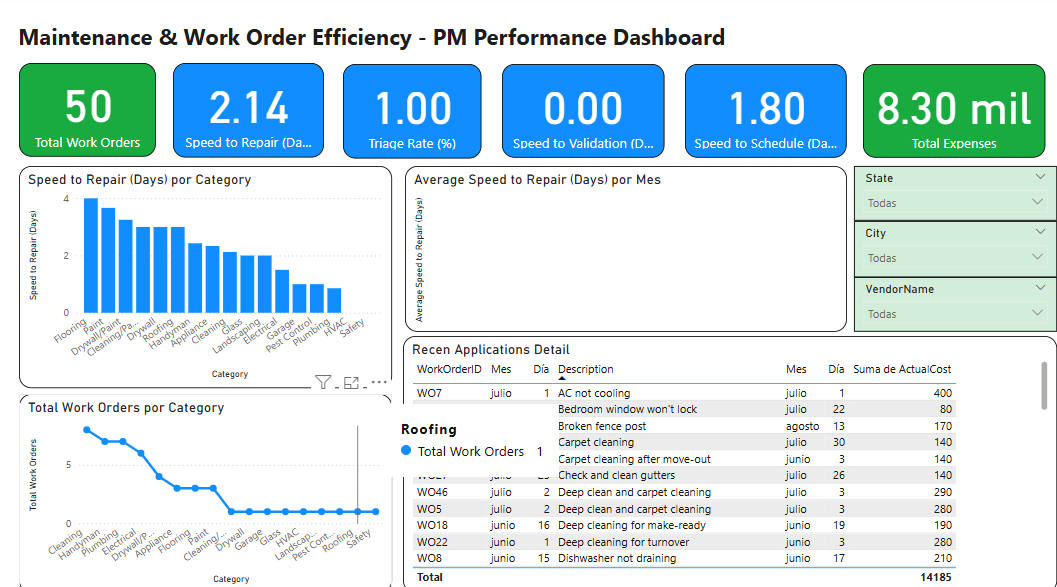

Layout of this report page (visuals, bound fields, positions):
{"tool":"powerbi","page":{"name":"Maintenance & Work Order Efficiency","canvas":[1280,720],"ordinal":2},"visuals":[{"type":"clusteredColumnChart","fields":{"Y":["WorkOrders.Speed to Repair (Days)"],"Category":["WorkOrders.Category"]},"box":[28,205,450,268],"z":0},{"type":"lineChart","fields":{"Y":["WorkOrders.Total Work Orders"],"Category":["WorkOrders.Category"]},"box":[28,480,450,240],"z":1000},{"type":"slicer","fields":{"Values":["Properties.City"]},"box":[1035,271.2,245,67.5],"z":2000},{"type":"slicer","fields":{"Values":["Vendors.VendorName"]},"box":[1035,338.8,245,66.2],"z":3000},{"type":"slicer","fields":{"Values":["Properties.State"]},"box":[1035,205,245,66.2],"z":4000},{"type":"textbox","box":[21.2,25.2,885.6,50.5],"z":5000},{"type":"card","fields":{"Values":["WorkOrders.Speed to Repair (Days)"]},"box":[214,81,182,114],"z":6000},{"type":"card","fields":{"Values":["WorkOrders.Triage Rate (%)"]},"box":[418,82,167,114],"z":7000},{"type":"card","fields":{"Values":["WorkOrders.Speed to Validation (Days)"]},"box":[610,82,196,113],"z":8000},{"type":"card","fields":{"Values":["WorkOrders.Speed to Schedule (Days)"]},"box":[831,82,195,113],"z":9000},{"type":"card","fields":{"Values":["WorkOrders.Total Work Orders"]},"box":[27.5,81.2,165,112.5],"z":10000},{"type":"card","fields":{"Values":["FinancialEntries.Total Expenses"]},"box":[1046,82,220,113],"z":11000},{"type":"lineChart","fields":{"Y":["WorkOrders.Average Speed to Repair (Days)"],"Category":["WorkOrders.SubmissionDate.Variación.Jerarquía de fechas.Mes"]},"box":[493.8,205,532.5,200],"z":12000},{"type":"tableEx","title":"Recen Applications Detail","fields":{"Values":["WorkOrders.WorkOrderID","WorkOrders.SubmissionDate.Variación.Jerarquía de fechas.Mes","WorkOrders.SubmissionDate.Variación.Jerarquía de fechas.Día","WorkOrders.Description","WorkOrders.CompletionDate.Variación.Jerarquía de fechas.Mes","WorkOrders.CompletionDate.Variación.Jerarquía de fechas.Día","Sum(WorkOrders.ActualCost)"]},"box":[491,410,789,310],"z":13000}]}

Visuals, with their boxes in screenshot pixels (x1, y1, x2, y2), scaled from the page's 1280x720 canvas onto the 1057x587 screenshot:
clusteredColumnChart - WorkOrders.Speed to Repair (Days) x WorkOrders.Category: <region>23, 167, 395, 386</region>
lineChart - WorkOrders.Total Work Orders x WorkOrders.Category: <region>23, 391, 395, 586</region>
slicer - Properties.City: <region>855, 221, 1056, 276</region>
slicer - Vendors.VendorName: <region>855, 276, 1056, 330</region>
slicer - Properties.State: <region>855, 167, 1056, 221</region>
textbox: <region>18, 21, 749, 62</region>
card - WorkOrders.Speed to Repair (Days): <region>177, 66, 327, 159</region>
card - WorkOrders.Triage Rate (%): <region>345, 67, 483, 160</region>
card - WorkOrders.Speed to Validation (Days): <region>504, 67, 666, 159</region>
card - WorkOrders.Speed to Schedule (Days): <region>686, 67, 847, 159</region>
card - WorkOrders.Total Work Orders: <region>23, 66, 159, 158</region>
card - FinancialEntries.Total Expenses: <region>864, 67, 1045, 159</region>
lineChart - WorkOrders.Average Speed to Repair (Days) x WorkOrders.SubmissionDate.Variación.Jerarquía de fechas.Mes: <region>408, 167, 847, 330</region>
"Recen Applications Detail" tableEx: <region>405, 334, 1056, 586</region>
